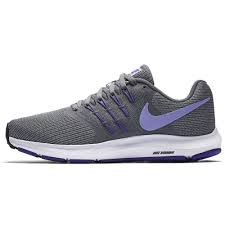nike: (139, 97, 213, 133)
